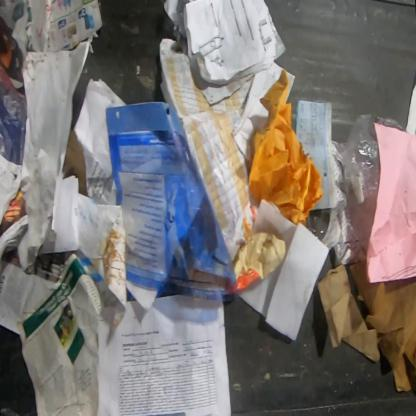cardboard: (348, 260, 416, 392), (315, 263, 382, 365), (26, 0, 104, 54), (232, 230, 287, 292), (63, 127, 89, 198), (2, 189, 26, 229)
rigid_plastic: (305, 207, 337, 248)
soft_plastic: (105, 100, 240, 304), (331, 112, 407, 254), (0, 84, 28, 167)
